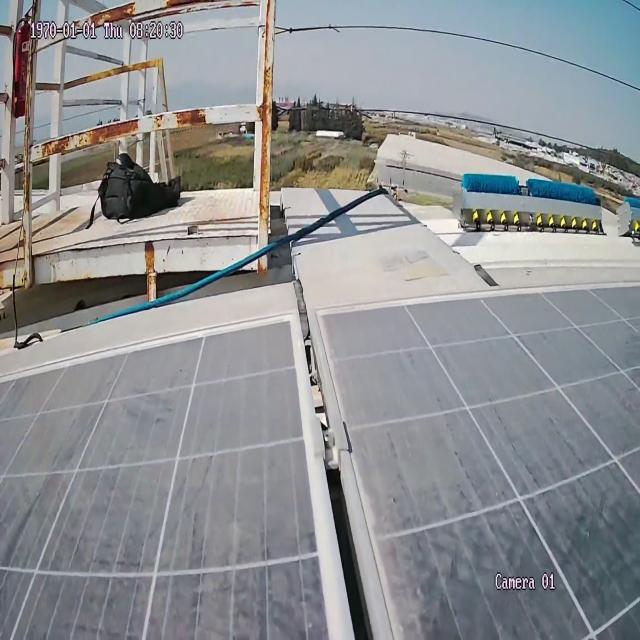interior panel: (244, 300, 469, 639)
